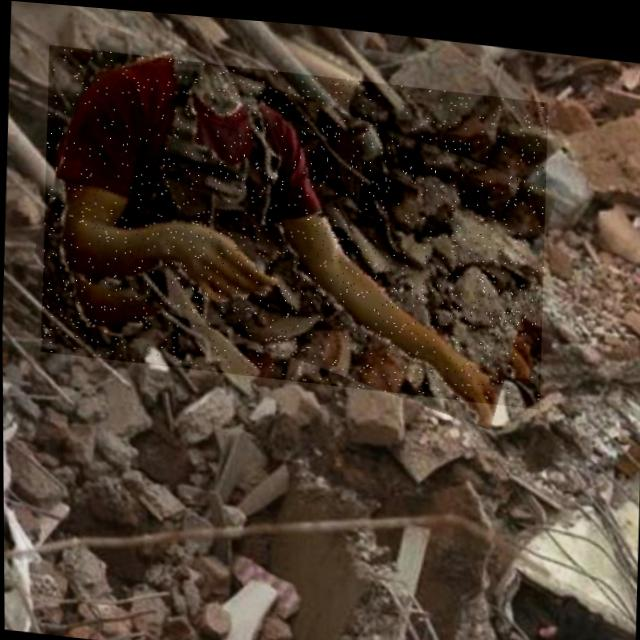Person in Rubble: (38, 43, 549, 401)
